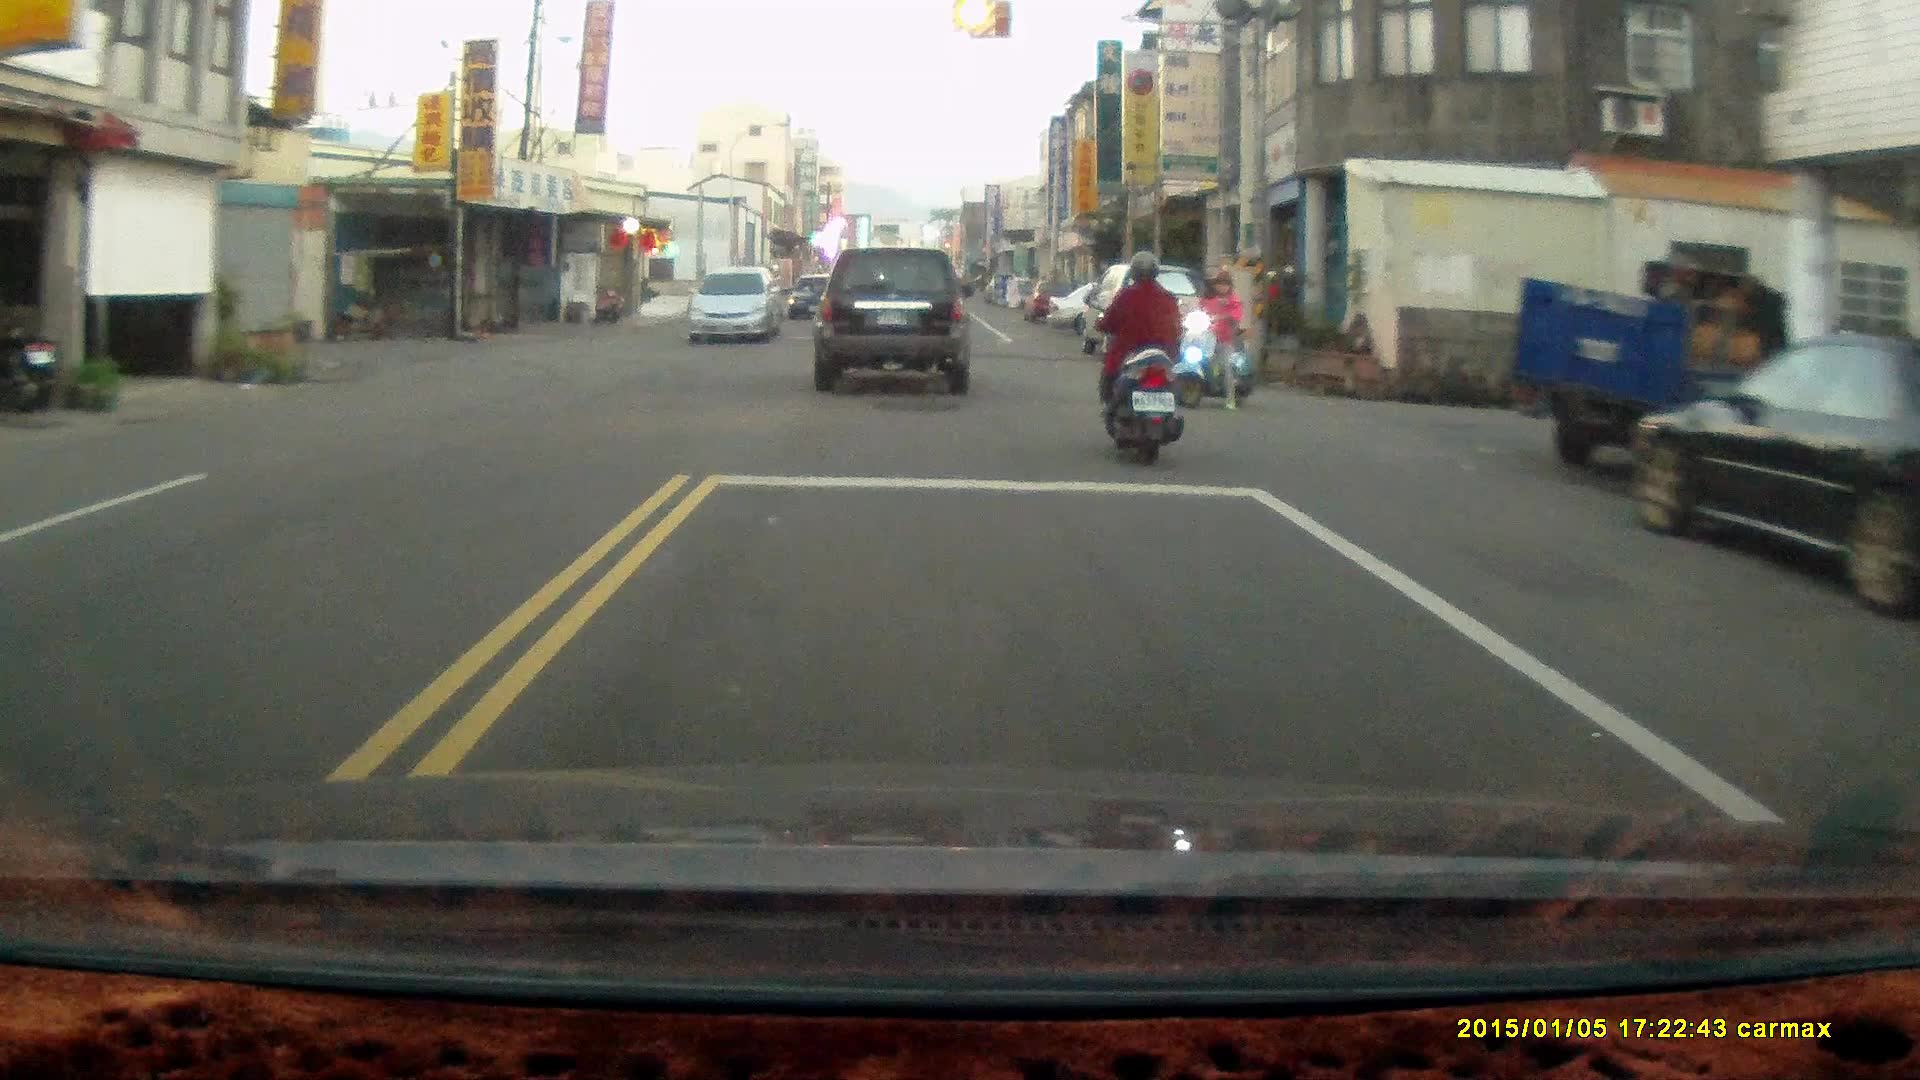rider: (1097, 249, 1181, 476), (1177, 269, 1257, 410)
vehicle: (1633, 331, 1920, 596), (1512, 260, 1801, 481), (812, 249, 980, 402), (1086, 264, 1214, 361), (686, 266, 788, 346)
